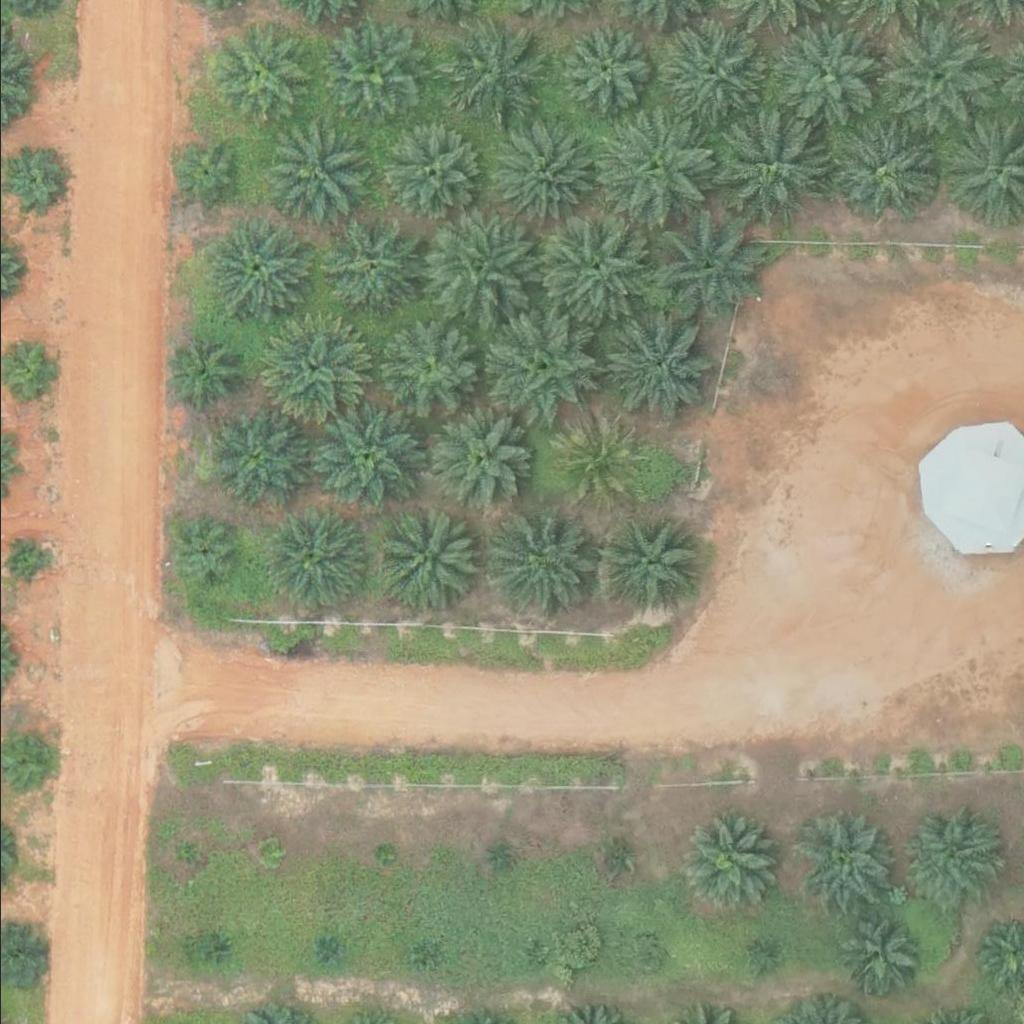Kelapa_Sawit: (599, 314, 713, 427), (483, 312, 597, 425), (648, 212, 762, 325), (311, 401, 424, 514), (877, 21, 991, 133), (542, 212, 656, 324), (709, 115, 823, 227), (250, 314, 363, 426), (485, 509, 598, 621), (418, 209, 531, 321), (596, 112, 709, 224), (651, 16, 764, 128), (766, 18, 879, 130), (903, 803, 1004, 903), (792, 811, 893, 911), (684, 809, 785, 909), (597, 511, 698, 611), (205, 408, 306, 508), (314, 217, 415, 317), (207, 221, 308, 321), (491, 123, 592, 223), (378, 124, 479, 224), (269, 124, 370, 224), (446, 23, 547, 123), (320, 25, 421, 125), (208, 25, 309, 125), (831, 123, 931, 223), (378, 506, 478, 606), (264, 511, 364, 611), (425, 412, 525, 512), (375, 318, 475, 418), (547, 417, 635, 505), (835, 912, 923, 999), (557, 25, 645, 112), (166, 517, 242, 592), (161, 335, 236, 410), (167, 139, 242, 214), (622, 937, 660, 975), (4, 545, 42, 582), (750, 950, 775, 975), (520, 946, 545, 971), (404, 940, 429, 965), (600, 846, 625, 871), (487, 846, 512, 871), (369, 842, 394, 867), (257, 838, 282, 863), (173, 841, 198, 866), (315, 941, 340, 966), (205, 934, 230, 959)
